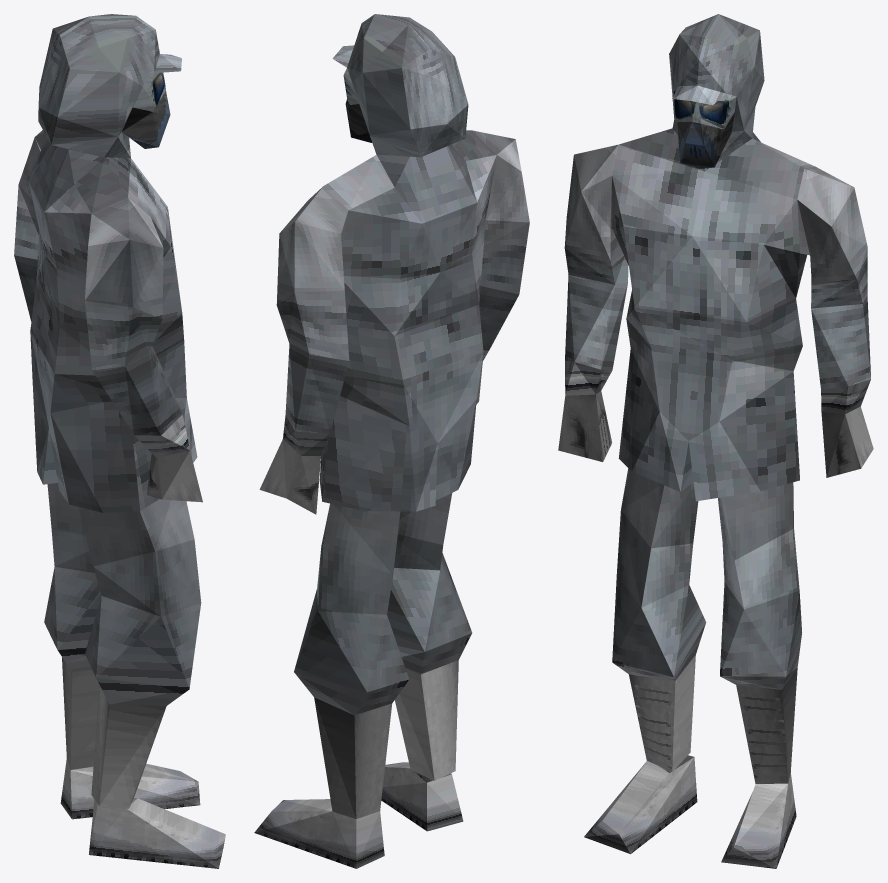
File: primary_036.glb
3 views of the same model, side by side, from view 1: azimuth 30°, elevation 25°; view 2: azimuth 150°, elevation 25°; view 3: azimuth 270°, elevation 25° (orthographic). The views are drawn at different scales.
Parts seen in each view (by area): view 1: Object; view 2: Object; view 3: Object.
Part boxes in pixels (x1,y1,x2,y2): Object: (14, 14, 225, 868); Object: (254, 14, 529, 868); Object: (558, 14, 873, 868).
Bounding box in the file's own units: 0.4984 × 2.08 × 0.7459.
Materials: 71 (71 with a texture image).
